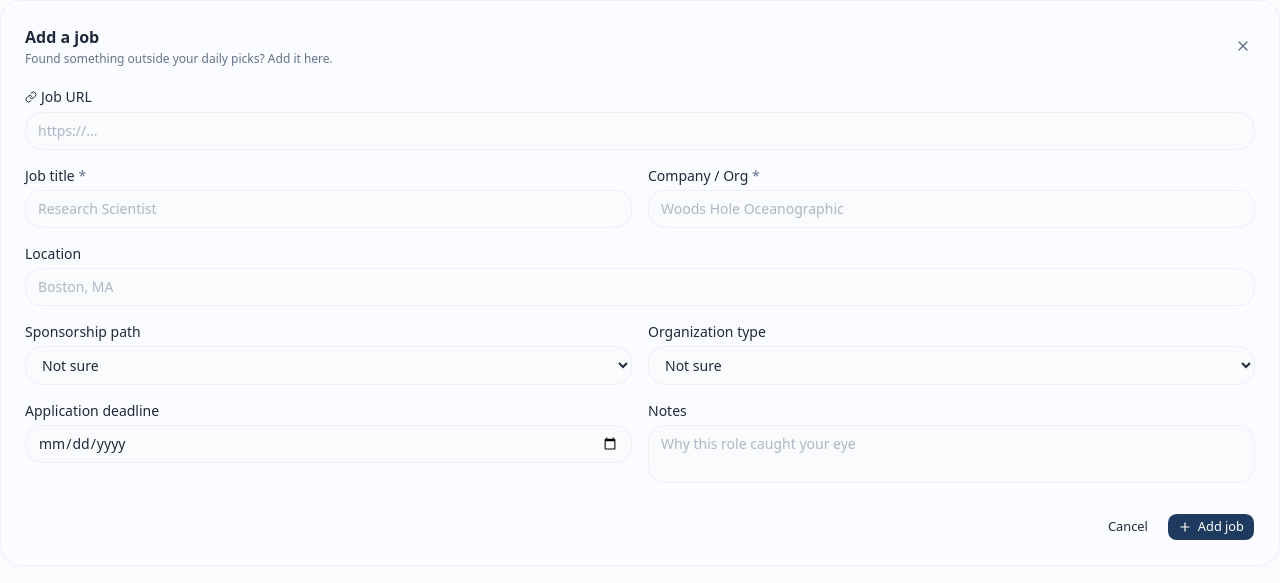
Test: AddJobForm › still shows Look it up button when URL is entered and title is already filled (allows re-analysis)
Type "My Job" into the field labelled "Job title *" at [328, 209], box top-left (25, 190), bottom-right (632, 228)
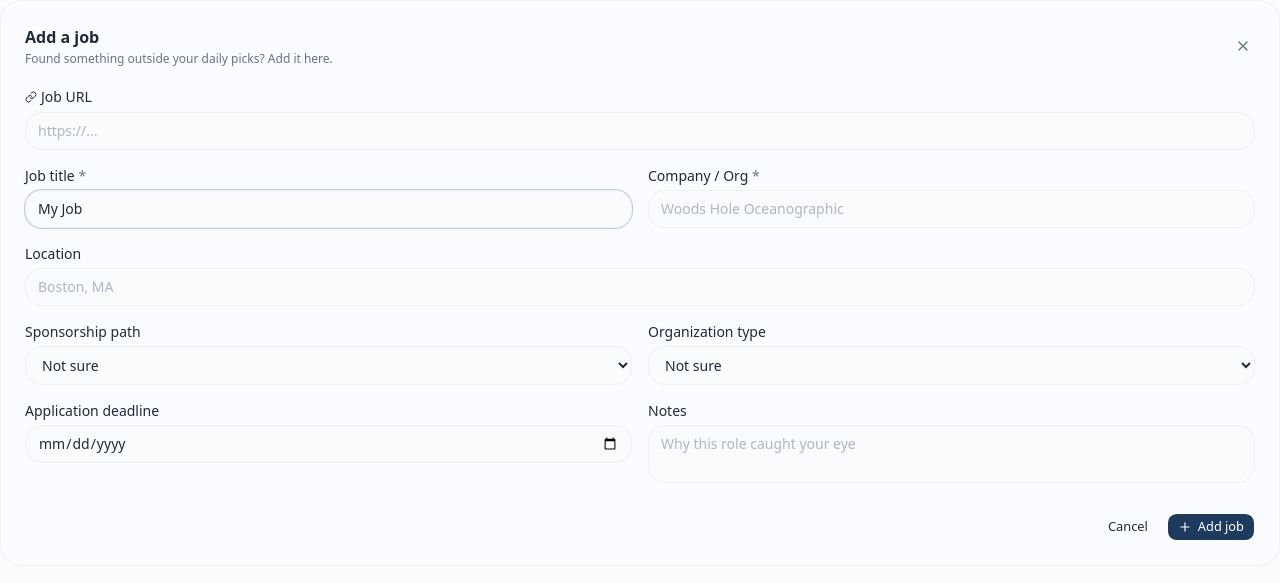
Type "https://whoi.edu/jobs/123" into the field labelled "Job URL" at [640, 131], box top-left (25, 112), bottom-right (1255, 150)
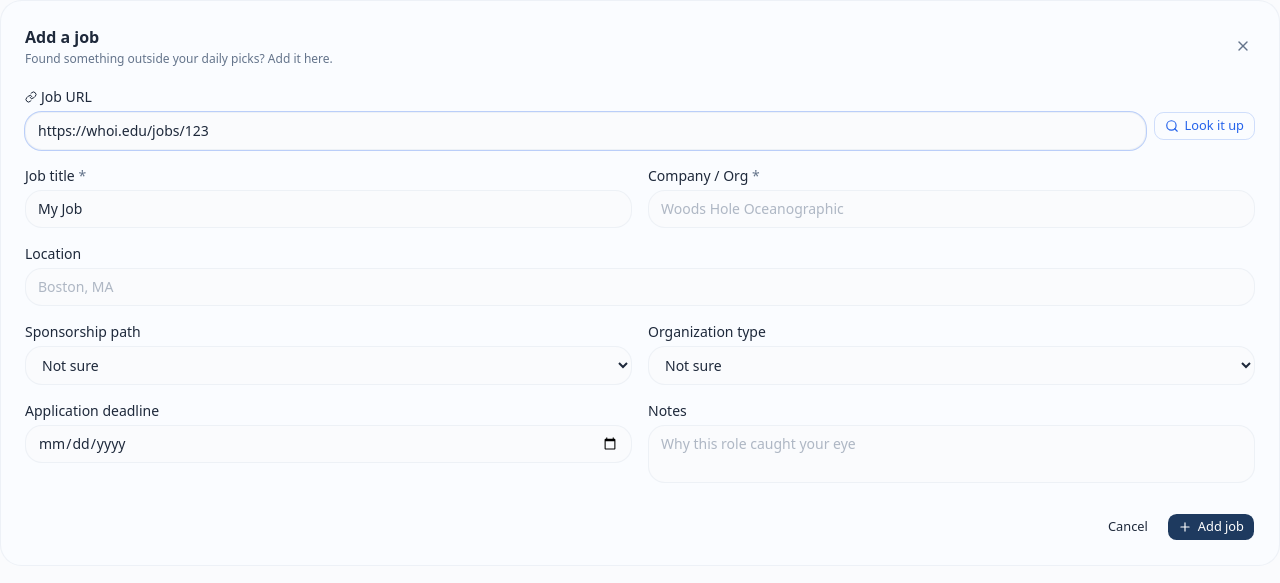
Result: the button with aria-label "look up job details" is shown at top-left (1154, 112), bottom-right (1255, 140)
